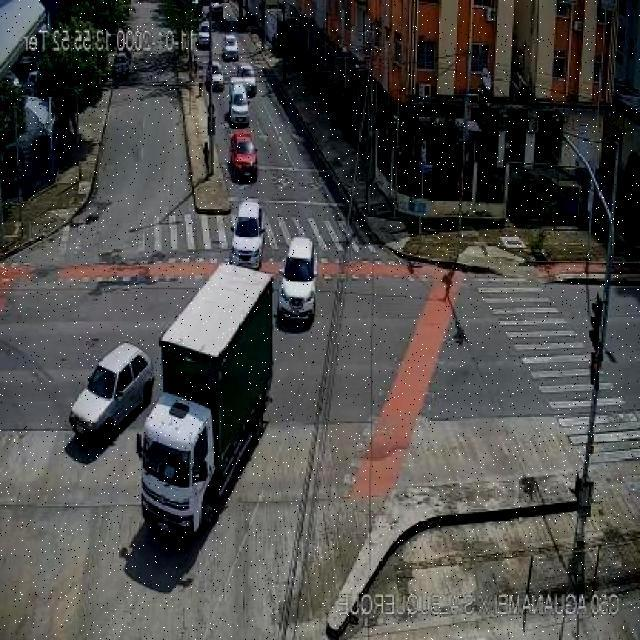Car: (69, 344, 155, 442), (274, 237, 322, 324), (230, 199, 264, 267), (228, 130, 258, 182), (227, 83, 251, 127), (234, 65, 257, 98), (112, 51, 132, 80), (224, 33, 242, 60), (208, 64, 224, 92), (197, 22, 211, 48), (208, 2, 225, 23)
Truck: (139, 265, 274, 540)
